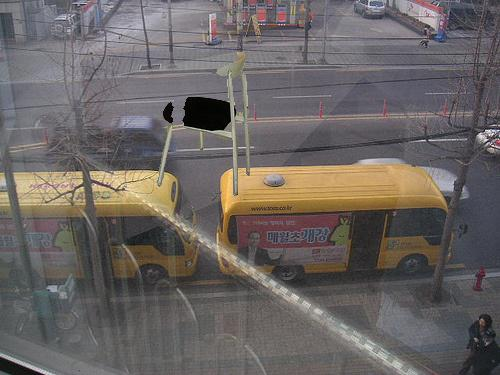tampered: (158, 53, 250, 196)
